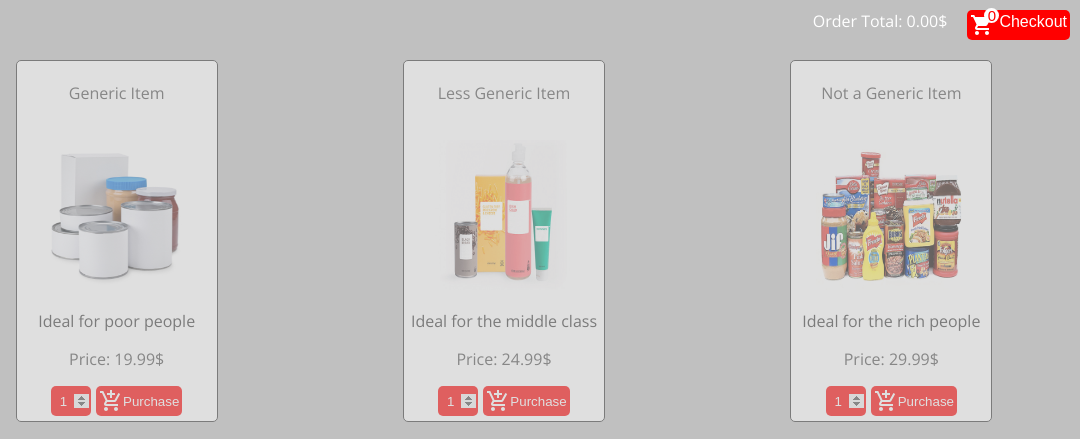
Add two items to cart › adds two different items to cart
Click the button "Purchase" below "19.99$" at [139, 401], box top-left (96, 386), bottom-right (182, 416)
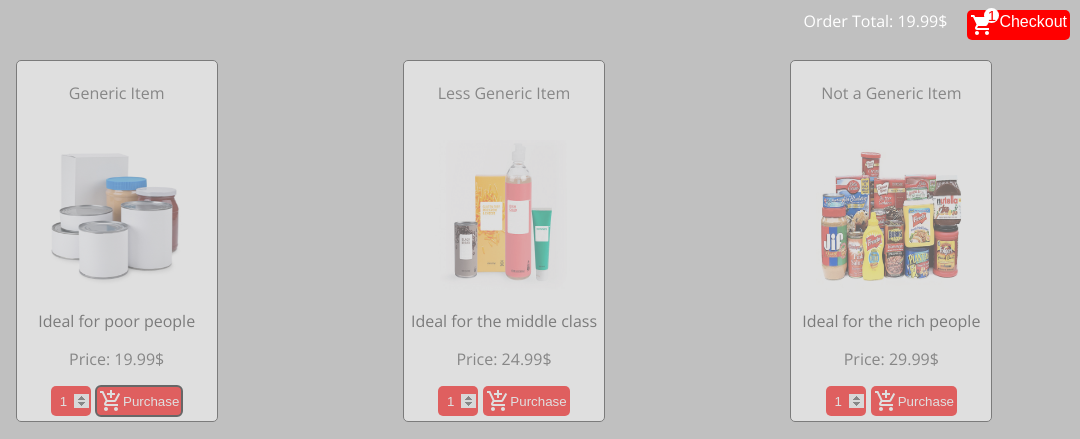
Click the button "Purchase" below "24.99$" at [526, 401], box top-left (483, 386), bottom-right (570, 416)
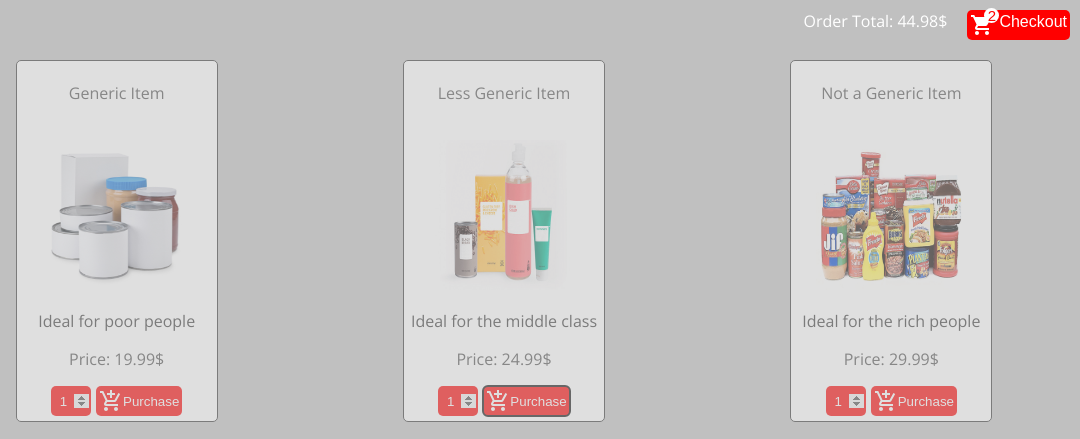
Check: the icon with test id "quant" reads "2", box top-left (988, 7), bottom-right (996, 24)
